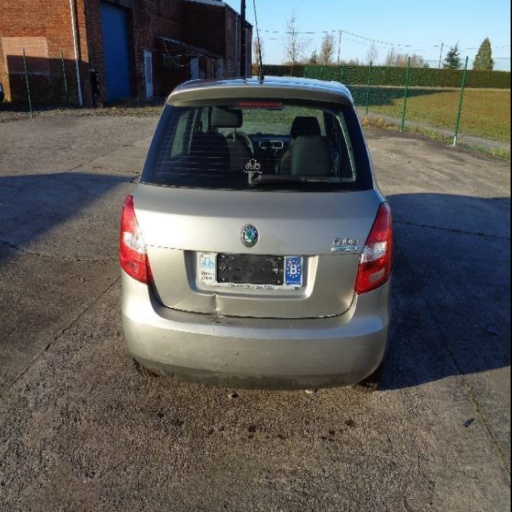dent: (210, 290, 225, 314)
scratch: (343, 323, 348, 327), (224, 364, 228, 369), (169, 355, 171, 357)
